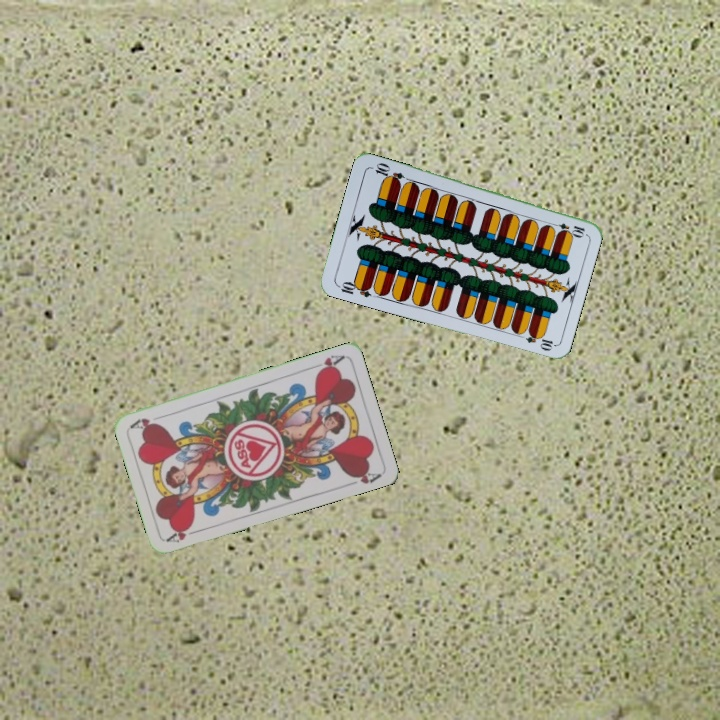E10: (333, 277, 374, 300), (547, 219, 587, 238)
HA: (307, 351, 347, 376), (163, 521, 203, 545)
